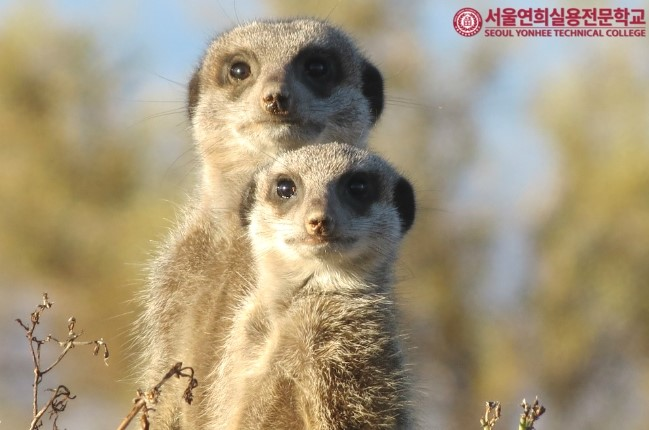meerkat: (221, 128, 426, 430)
